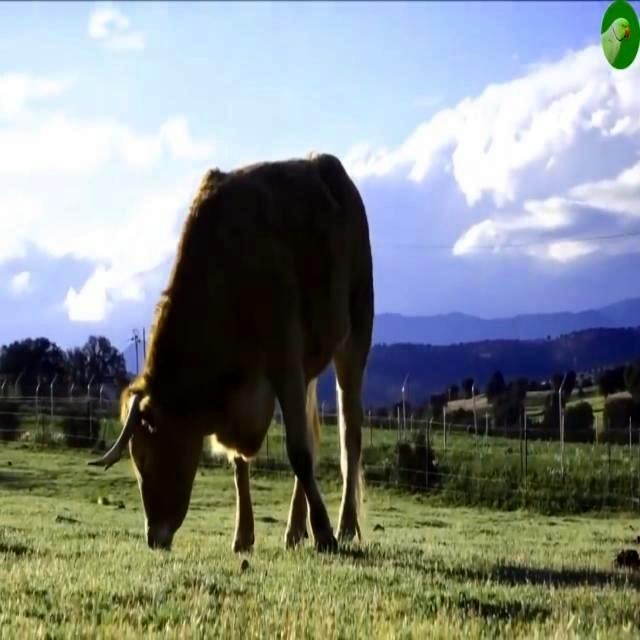COW: (94, 154, 374, 552)
